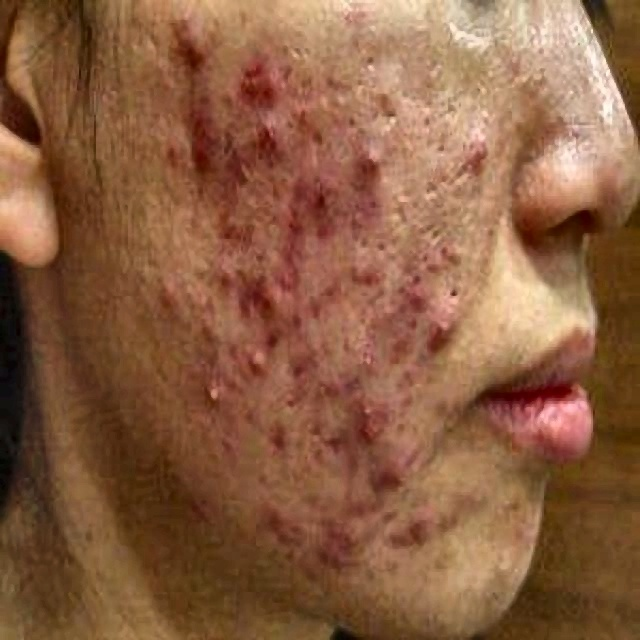nodule: (433, 298, 472, 352), (341, 193, 378, 244), (314, 418, 348, 469), (267, 242, 305, 287), (356, 401, 393, 447), (175, 83, 215, 125), (211, 208, 248, 250), (373, 444, 408, 486), (244, 54, 278, 97), (326, 498, 352, 554), (395, 276, 431, 316), (232, 339, 266, 381), (216, 154, 250, 196), (290, 91, 322, 134), (324, 364, 356, 407), (177, 125, 213, 162), (168, 26, 207, 60), (343, 142, 382, 176), (198, 370, 224, 421), (278, 202, 312, 239), (424, 503, 461, 535), (350, 259, 384, 293), (403, 512, 427, 560), (211, 248, 243, 284), (282, 347, 312, 384), (243, 285, 269, 327), (136, 270, 168, 304), (256, 270, 284, 307), (260, 495, 284, 538), (330, 327, 360, 361), (472, 134, 497, 174), (382, 520, 407, 560), (459, 475, 484, 515), (192, 293, 213, 336), (307, 296, 331, 333), (435, 236, 465, 265), (216, 421, 241, 455), (508, 515, 535, 546), (382, 324, 407, 356), (382, 208, 403, 245), (265, 424, 290, 455), (316, 174, 335, 214), (294, 173, 320, 202), (248, 111, 273, 139), (369, 83, 397, 108), (497, 486, 521, 515), (378, 102, 401, 128), (337, 2, 361, 26), (489, 552, 512, 577), (326, 270, 348, 296), (358, 48, 382, 71), (399, 361, 418, 390), (473, 100, 492, 128), (326, 82, 348, 106), (320, 105, 341, 128), (362, 344, 378, 373), (392, 185, 412, 208), (202, 441, 220, 466), (275, 390, 297, 410), (286, 37, 305, 60), (320, 66, 341, 86), (294, 298, 305, 332), (296, 68, 314, 88)
